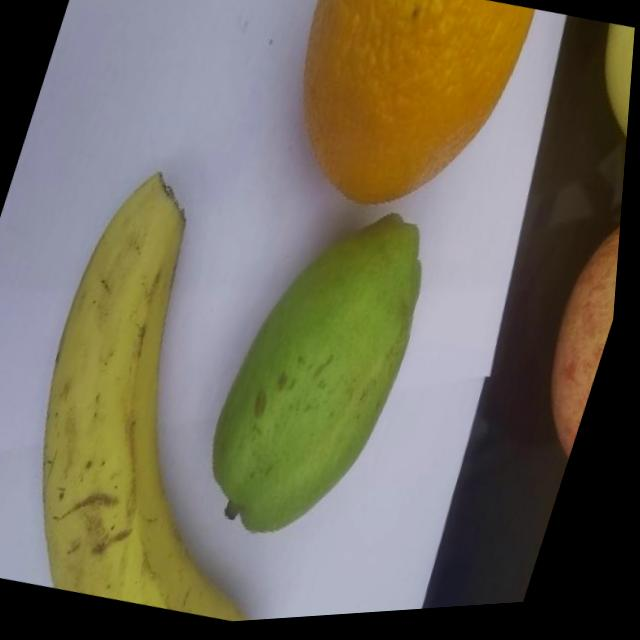Apple: (527, 204, 626, 470)
Banana: (0, 151, 389, 639)
Orange: (257, 0, 539, 243)
